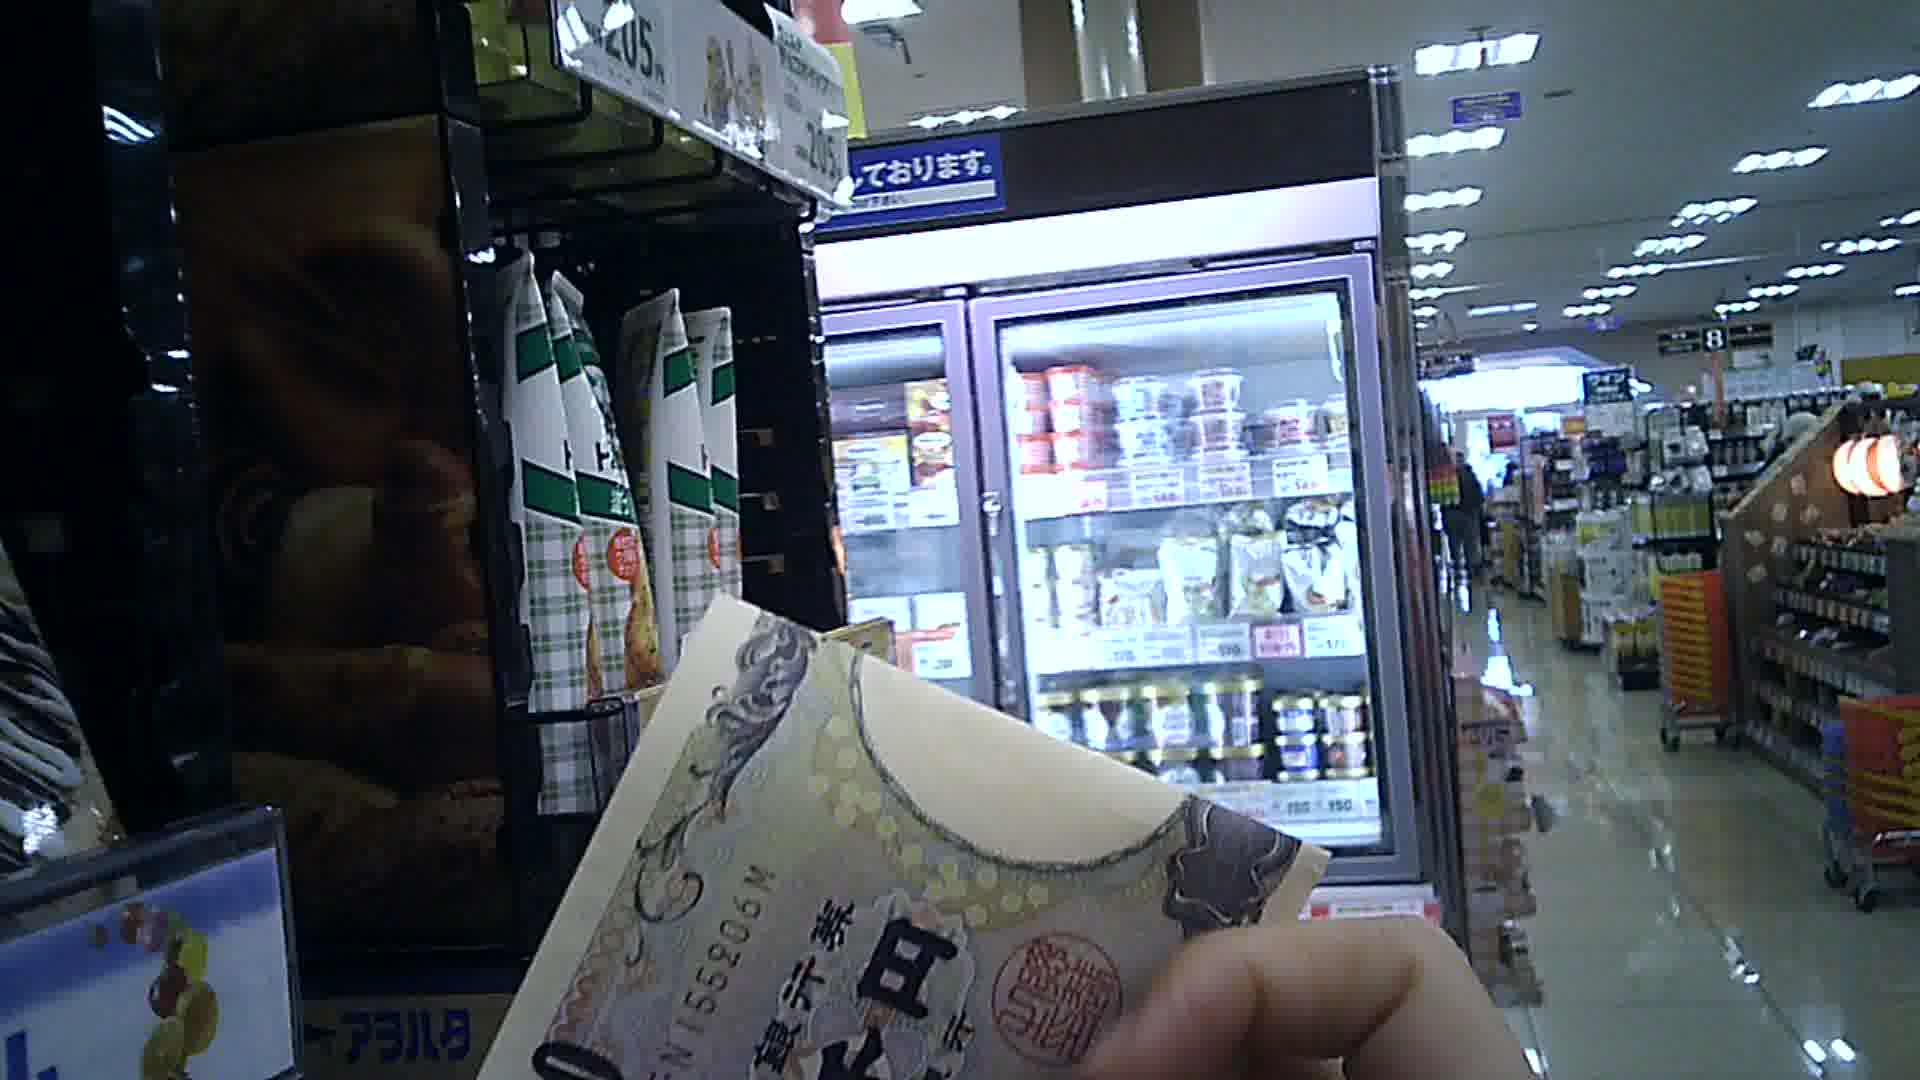5,000 Yen: (465, 592, 1338, 1062)
